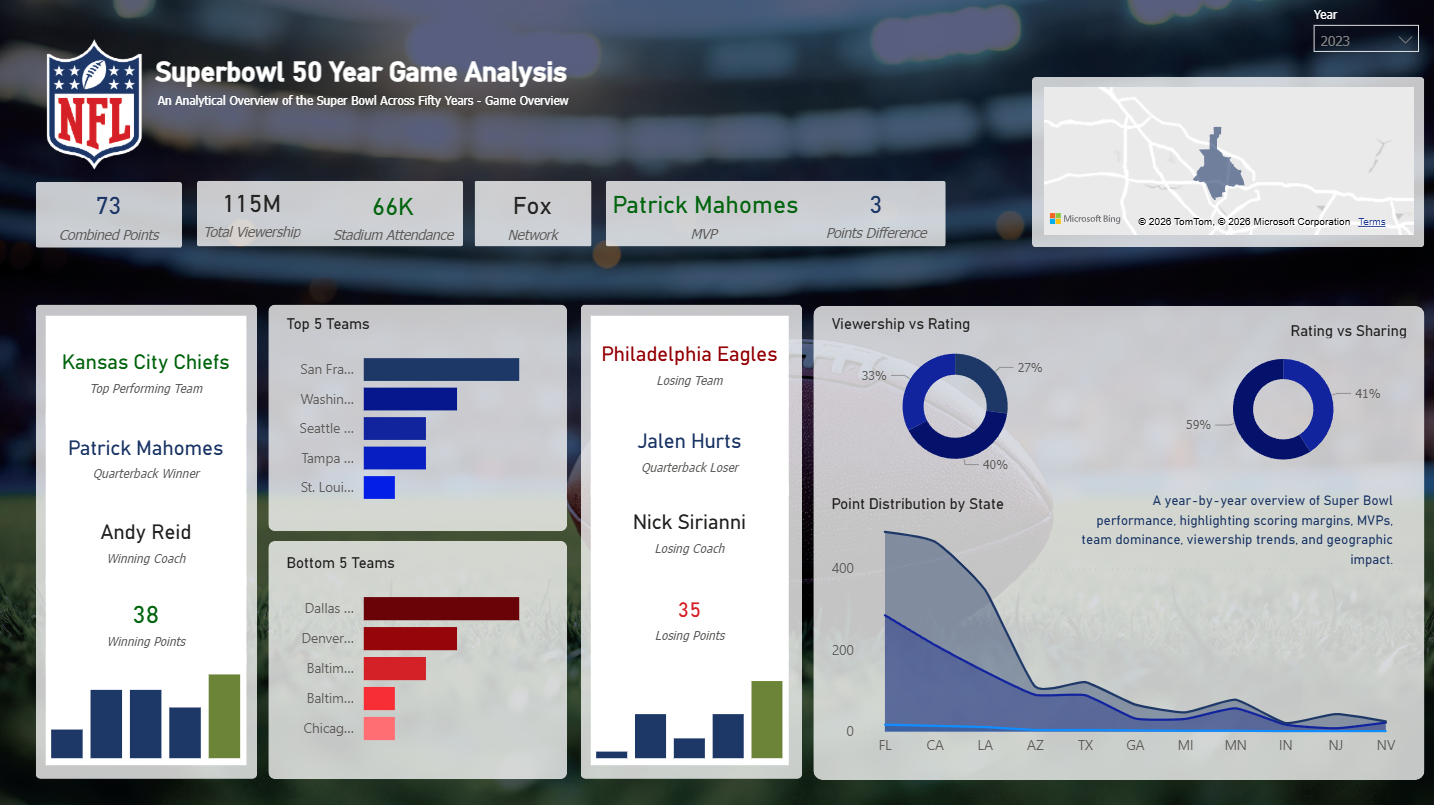

Layout of this report page (visuals, bound fields, positions):
{"tool":"powerbi","page":{"name":"Game Overview","canvas":[1280,720],"ordinal":0},"visuals":[{"type":"image","box":[0,0,1280.2,720.6],"z":0},{"type":"textbox","box":[135.3,47.5,430.7,41.5],"z":1000},{"type":"shape","box":[34,272.9,196.8,421.7],"z":2000},{"type":"shape","box":[34,164,130,58.6],"z":3000},{"type":"slicer","fields":{"Values":["super_bowls_final.date.Variation.Date Hierarchy.Year"]},"box":[1165.4,19.9,103.1,36.3],"z":4000},{"type":"card","fields":{"Values":["Sum(super_bowls_final.combined_pts)"]},"box":[39.8,162.8,118.3,58.6],"z":5000},{"type":"shape","box":[178,162.8,236.6,58.6],"z":6000},{"type":"card","fields":{"Values":["Measures_Table.Total Super Bowl Viewership"]},"box":[178,161.6,97.2,58.6],"z":7000},{"type":"card","fields":{"Values":["Measures_Table.Total In-Stadium Attendance"]},"box":[290.5,162.8,124.2,59.7],"z":8000},{"type":"shape","box":[424,162.8,104.2,58.6],"z":9000},{"type":"shape","box":[241.3,272.9,265.9,201.5],"z":10000},{"type":"card","fields":{"Values":["Min(tv_final_fixed.network)"]},"box":[433.4,162.8,85.5,58.6],"z":11000},{"type":"shape","box":[541.1,162.8,302.2,58.6],"z":12000},{"type":"card","fields":{"Values":["Measures_Table.MVP (Selected Year)"]},"box":[534.4,163.3,191.1,56.7],"z":13000},{"type":"card","fields":{"Values":["Sum(super_bowls_final.difference_pts)"]},"box":[720.4,161.6,123,59.7],"z":14000},{"type":"textbox","box":[137.5,76.4,491.4,42.3],"z":15000},{"type":"card","fields":{"Values":["Measures_Table.Top Performing Team"]},"box":[43.3,283.5,178,96],"z":16000},{"type":"card","fields":{"Values":["Min(super_bowls_final.coach_winner)"]},"box":[43.3,442.8,178,80.8],"z":17000},{"type":"card","fields":{"Values":["Min(super_bowls_final.qb_winner_1)"]},"box":[43.3,370.1,178,75],"z":18000},{"type":"card","fields":{"Values":["Sum(super_bowls_final.winning_pts)"]},"box":[43.3,515.4,178,78.5],"z":19000},{"type":"columnChart","fields":{"Category":["Rolling Year Offset.Offset"],"Y":["Measures_Table.Winning Points (Rolling 5 Columns)"]},"box":[43.3,584.5,178,98.4],"z":20000},{"type":"shape","box":[518.9,272.9,196.8,421.7],"z":21000},{"type":"card","fields":{"Values":["Min(super_bowls_final.team_loser)"]},"box":[528.3,283.5,175.7,82],"z":22000},{"type":"card","fields":{"Values":["Min(super_bowls_final.qb_loser_1)"]},"box":[528.3,359.6,175.7,83.2],"z":23000},{"type":"card","fields":{"Values":["Min(super_bowls_final.coach_loser)"]},"box":[528.3,432.2,175.7,83.2],"z":24000},{"type":"card","fields":{"Values":["Sum(super_bowls_final.losing_pts)"]},"box":[528.3,514.2,175.7,73.8],"z":25000},{"type":"columnChart","fields":{"Category":["Rolling Year Offset.Offset"],"Y":["Measures_Table.Losing Points (Rolling 5 Columns)"]},"box":[528.3,584.5,175.7,98.4],"z":26000},{"type":"barChart","title":"Top 5 Teams","fields":{"Y":["CountNonNull(superbowl_final_dates_fixed.Winner Pts)"],"Category":["superbowl_final_dates_fixed.Winner"]},"box":[251.8,283.5,244.8,179.2],"z":27000},{"type":"shape","box":[241.3,483.7,265.9,212],"z":28000},{"type":"shape","box":[725,274.1,543.5,421.7],"z":29000},{"type":"barChart","title":"Bottom 5 Teams","fields":{"Y":["CountNonNull(superbowl_final_dates_fixed.Loser Pts)"],"Category":["superbowl_final_dates_fixed.Winner"]},"box":[251.8,495.5,244.8,181.6],"z":30000},{"type":"donutChart","title":"Viewership vs Rating","fields":{"Y":["Sum(tv_final_fixed.rating_household)","Sum(tv_final_fixed.share_household)","Sum(tv_final_fixed.share_18_49)"]},"box":[737.1,283.3,230.4,147],"z":31000},{"type":"donutChart","title":"Rating vs Sharing","fields":{"Y":["Sum(tv_final_fixed.rating_18_49)","Sum(tv_final_fixed.share_18_49)"]},"box":[1028.7,289.2,229.2,141.1],"z":32000},{"type":"shape","box":[920,71.2,348.8,151.2],"z":33000},{"type":"filledMap","fields":{"Category":["super_bowls_final.city"]},"box":[925.6,75.6,338.9,141.1],"z":34000},{"type":"areaChart","title":"Point Distribution by State","fields":{"Category":["superbowl_final_dates_fixed.State Abbrev"],"Y":["CountNonNull(superbowl_final_dates_fixed.Stadium)","Sum(superbowl_final_dates_fixed.Loser Pts)","Sum(superbowl_final_dates_fixed.Winner Pts)"]},"box":[737.1,443.2,520.8,239.8],"z":35000},{"type":"textbox","box":[958.1,432.6,288,83.5],"z":36000},{"type":"textbox","box":[1165,0,103.5,37.6],"z":37000}]}

Visuals, with their boxes in screenshot pixels (x1, y1, x2, y2), scaled from the page's 1280x720 canvas onto the 1434x805 screenshot:
image: rect(0, 0, 1433, 804)
textbox: rect(152, 53, 634, 100)
shape: rect(38, 305, 259, 777)
shape: rect(38, 183, 184, 249)
slicer - super_bowls_final.date.Variation.Date Hierarchy.Year: rect(1306, 22, 1421, 63)
card - Sum(super_bowls_final.combined_pts): rect(45, 182, 177, 248)
shape: rect(199, 182, 464, 248)
card - Measures_Table.Total Super Bowl Viewership: rect(199, 181, 308, 246)
card - Measures_Table.Total In-Stadium Attendance: rect(325, 182, 465, 249)
shape: rect(475, 182, 592, 248)
shape: rect(270, 305, 568, 530)
card - Min(tv_final_fixed.network): rect(486, 182, 581, 248)
shape: rect(606, 182, 945, 248)
card - Measures_Table.MVP (Selected Year): rect(599, 183, 813, 246)
card - Sum(super_bowls_final.difference_pts): rect(807, 181, 945, 247)
textbox: rect(154, 85, 705, 133)
card - Measures_Table.Top Performing Team: rect(49, 317, 248, 424)
card - Min(super_bowls_final.coach_winner): rect(49, 495, 248, 585)
card - Min(super_bowls_final.qb_winner_1): rect(49, 414, 248, 498)
card - Sum(super_bowls_final.winning_pts): rect(49, 576, 248, 664)
columnChart - Rolling Year Offset.Offset x Measures_Table.Winning Points (Rolling 5 Columns): rect(49, 654, 248, 764)
shape: rect(581, 305, 802, 777)
card - Min(super_bowls_final.team_loser): rect(592, 317, 789, 409)
card - Min(super_bowls_final.qb_loser_1): rect(592, 402, 789, 495)
card - Min(super_bowls_final.coach_loser): rect(592, 483, 789, 576)
card - Sum(super_bowls_final.losing_pts): rect(592, 575, 789, 657)
columnChart - Rolling Year Offset.Offset x Measures_Table.Losing Points (Rolling 5 Columns): rect(592, 654, 789, 764)
"Top 5 Teams" barChart: rect(282, 317, 556, 517)
shape: rect(270, 541, 568, 778)
shape: rect(812, 306, 1421, 778)
"Bottom 5 Teams" barChart: rect(282, 554, 556, 757)
"Viewership vs Rating" donutChart: rect(826, 317, 1084, 481)
"Rating vs Sharing" donutChart: rect(1152, 323, 1409, 481)
shape: rect(1031, 80, 1421, 249)
filledMap - super_bowls_final.city: rect(1037, 85, 1417, 242)
"Point Distribution by State" areaChart: rect(826, 496, 1409, 764)
textbox: rect(1073, 484, 1396, 577)
textbox: rect(1305, 0, 1421, 42)
